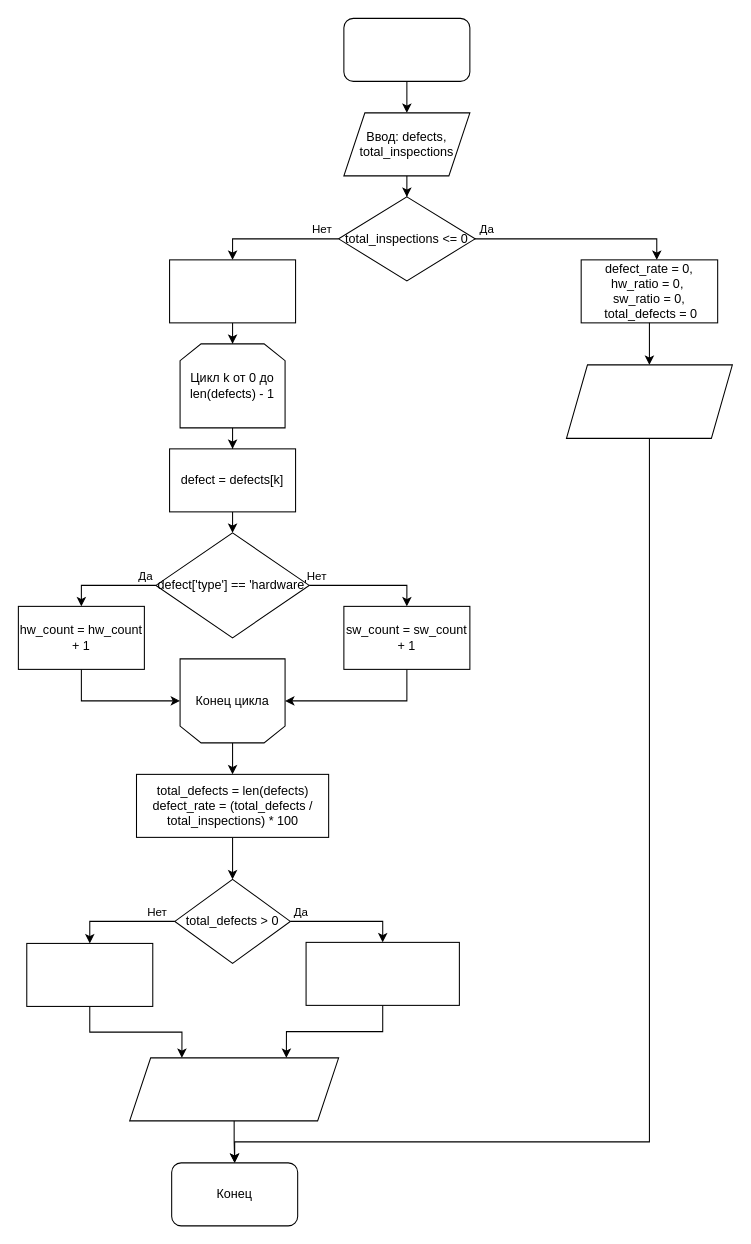
This 751x1244 diagram has some shape labels left out. Each missing label, with the box of its shape:
hw_count = 0 sw_count = 0: (169, 259, 296, 323)
hw_ratio = 0 sw_ratio = 0: (26, 942, 153, 1006)
hw_ratio = hw_count / total_defects sw_ratio = sw_count / total_defects: (305, 941, 459, 1005)
Вывод: defect_rate, hw_ratio, sw_ratio, hw_count, sw_count, total_defects: (129, 1057, 339, 1121)
Вывод: defect_rate, hw_ratio, sw_ratio, total_defects: (565, 364, 732, 438)
Начало: (343, 17, 470, 81)
